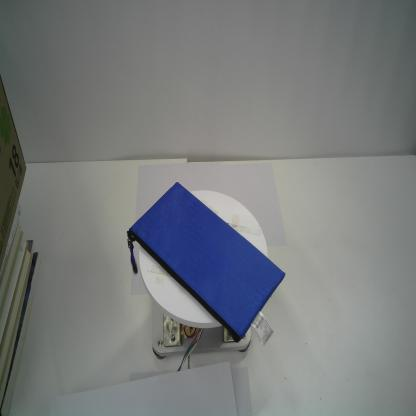Stationery: (126, 178, 288, 350)
